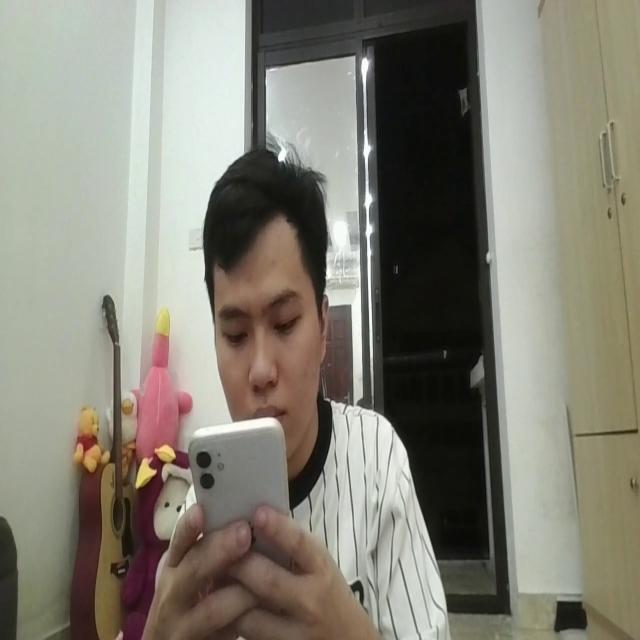phone: (187, 412, 293, 577)
student: (145, 144, 457, 640)
